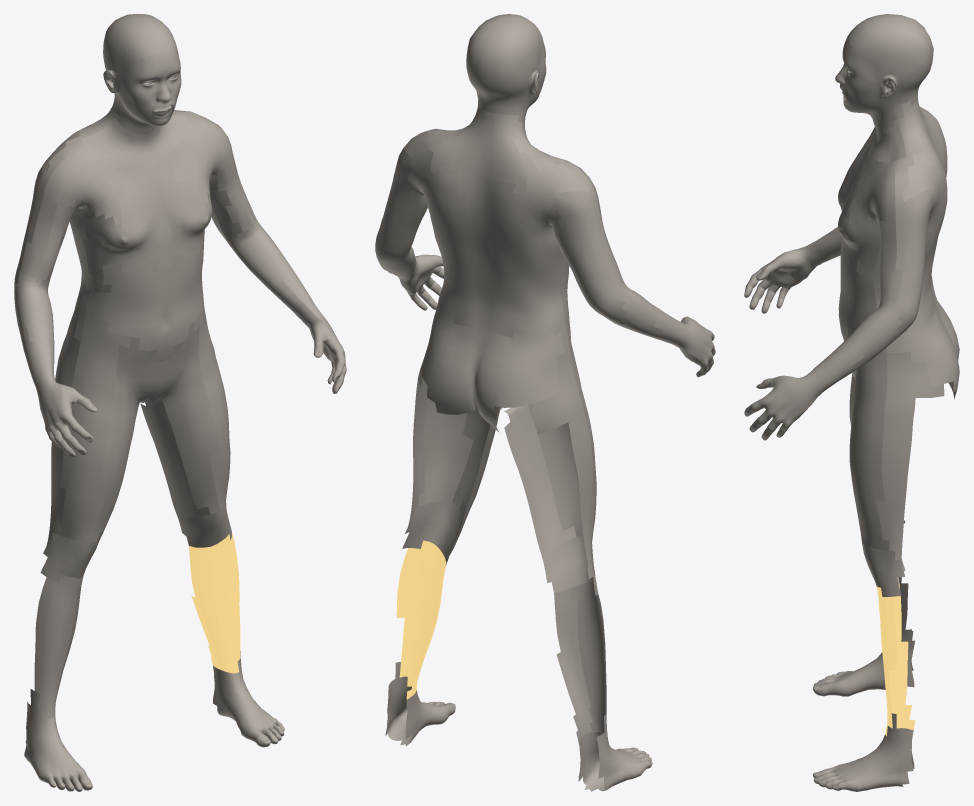
The model's file is neutro_body_v1_public_regions.glb.
3 renders of one model, left to right at view 1: azimuth 30°, elevation 25°; view 2: azimuth 150°, elevation 25°; view 3: azimuth 270°, elevation 25°, orthographic. The views are drawn at different scales.
Visible parts, largest first — view 1: public_full_abdomen_region, public_right_thigh_outer_surface, public_left_thigh_front_surface, public_right_pectoral_region, public_right_thigh_front_surface, public_right_shoulder_surface, public_right_calf_surface, public_head_right_surface, public_neck_front_surface, public_right_ankle_transition, public_head_top_surface, public_left_calf_surface (+23 smaller); view 2: public_upper_back_region, public_lower_back_region, public_head_top_surface, public_right_ribs_region, public_neck_back_surface, public_right_thigh_back_surface, public_right_thigh_inner_surface, public_left_calf_surface, public_left_thigh_outer_surface, public_right_calf_surface, public_left_ribs_region, public_right_thigh_front_surface (+14 smaller); view 3: public_left_thigh_back_surface, public_left_thigh_outer_surface, public_head_top_surface, public_left_ribs_region, public_upper_back_region, public_left_ankle_transition, public_lower_back_region, public_head_left_surface, public_left_forearm_outer_surface, public_left_shoulder_surface, public_left_elbow_transition, public_full_abdomen_region (+15 smaller).
Part boxes in pixels (left/top/right/bottom): public_full_abdomen_region: left=86, top=242, right=203, bottom=361; public_right_thigh_outer_surface: left=57, top=313, right=129, bottom=541; public_left_thigh_front_surface: left=154, top=321, right=220, bottom=513; public_right_pectoral_region: left=82, top=164, right=171, bottom=275; public_right_thigh_front_surface: left=90, top=336, right=163, bottom=542; public_right_shoulder_surface: left=42, top=150, right=136, bottom=225; public_right_calf_surface: left=34, top=574, right=82, bottom=719; public_head_right_surface: left=103, top=52, right=168, bottom=133; public_neck_front_surface: left=81, top=114, right=187, bottom=169; public_right_ankle_transition: left=24, top=689, right=92, bottom=791; public_head_top_surface: left=103, top=14, right=178, bottom=99; public_left_calf_surface: left=203, top=532, right=240, bottom=673; public_upper_back_region: left=404, top=131, right=589, bottom=351; public_lower_back_region: left=420, top=300, right=564, bottom=431; public_head_top_surface: left=466, top=14, right=543, bottom=115; public_right_ribs_region: left=545, top=156, right=629, bottom=324; public_neck_back_surface: left=428, top=100, right=539, bottom=194; public_right_thigh_back_surface: left=531, top=349, right=595, bottom=561; public_right_thigh_inner_surface: left=504, top=405, right=576, bottom=554; public_left_calf_surface: left=396, top=540, right=445, bottom=686; public_left_thigh_outer_surface: left=419, top=397, right=473, bottom=505; public_right_calf_surface: left=568, top=581, right=606, bottom=733; public_left_ribs_region: left=375, top=128, right=445, bottom=267; public_right_thigh_front_surface: left=527, top=404, right=582, bottom=536; public_left_thigh_back_surface: left=876, top=352, right=944, bottom=560; public_left_thigh_outer_surface: left=847, top=326, right=889, bottom=550; public_head_top_surface: left=849, top=14, right=933, bottom=105; public_left_ribs_region: left=891, top=155, right=933, bottom=340; public_upper_back_region: left=856, top=107, right=947, bottom=352; public_left_ankle_transition: left=825, top=713, right=914, bottom=791; public_lower_back_region: left=886, top=296, right=959, bottom=399; public_head_left_surface: left=835, top=37, right=904, bottom=130; public_left_forearm_outer_surface: left=778, top=344, right=864, bottom=416; public_left_shoulder_surface: left=845, top=160, right=895, bottom=222; public_left_elbow_transition: left=839, top=299, right=902, bottom=369; public_full_abdomen_region: left=838, top=237, right=880, bottom=336.
Size of the model in its own units: 0.7372 by 1.73 by 0.4697.
